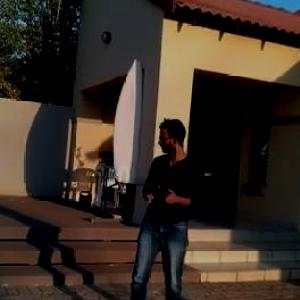follow: (119, 116, 207, 299)
